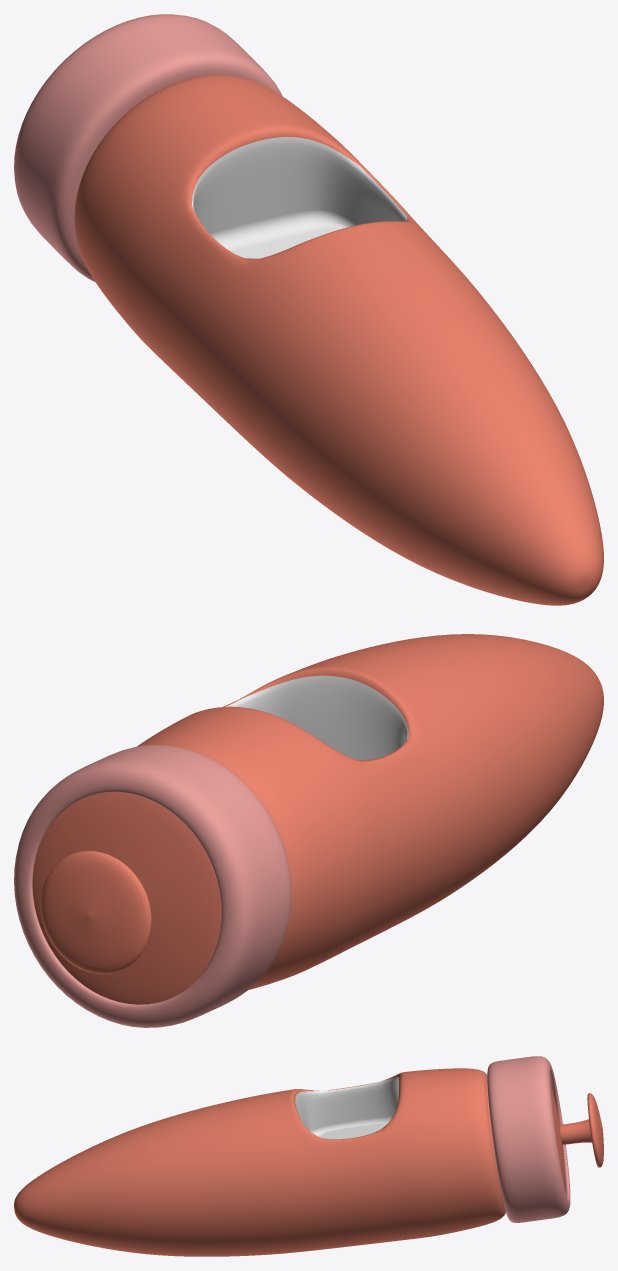
Rendered from Body2.fbx.
3 renders of one model, top to bottom at view 1: azimuth 30°, elevation 25°; view 2: azimuth 150°, elevation 25°; view 3: azimuth 270°, elevation 25°, orthographic. The views are drawn at different scales.
Parts seen in each view (by area): view 1: Plane; view 2: Plane; view 3: Plane.
Part boxes in pixels (box(x1,y1,x2,y2)): Plane: box(14, 14, 603, 605); Plane: box(14, 634, 603, 1027); Plane: box(14, 1056, 603, 1256).
Size of the model in its own units: 0.471 by 0.5804 by 1.67.
